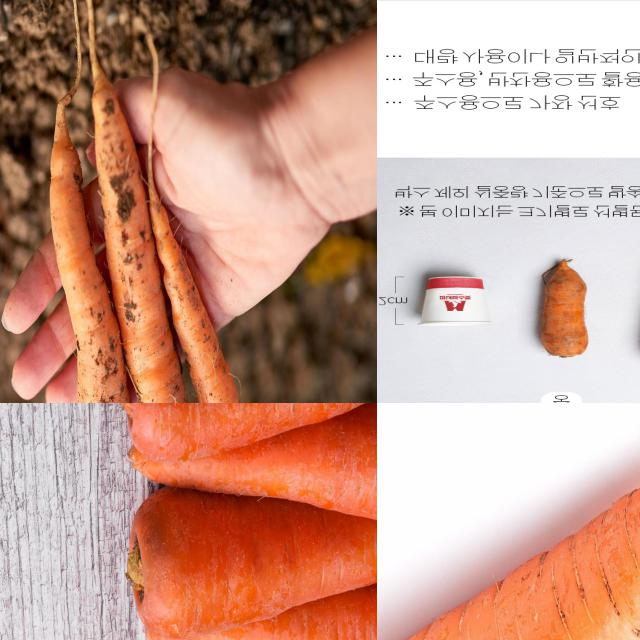carrot: (21, 0, 265, 402), (377, 403, 639, 639), (128, 478, 376, 637), (125, 403, 376, 531), (139, 564, 376, 639), (108, 403, 376, 455), (538, 257, 592, 362)
